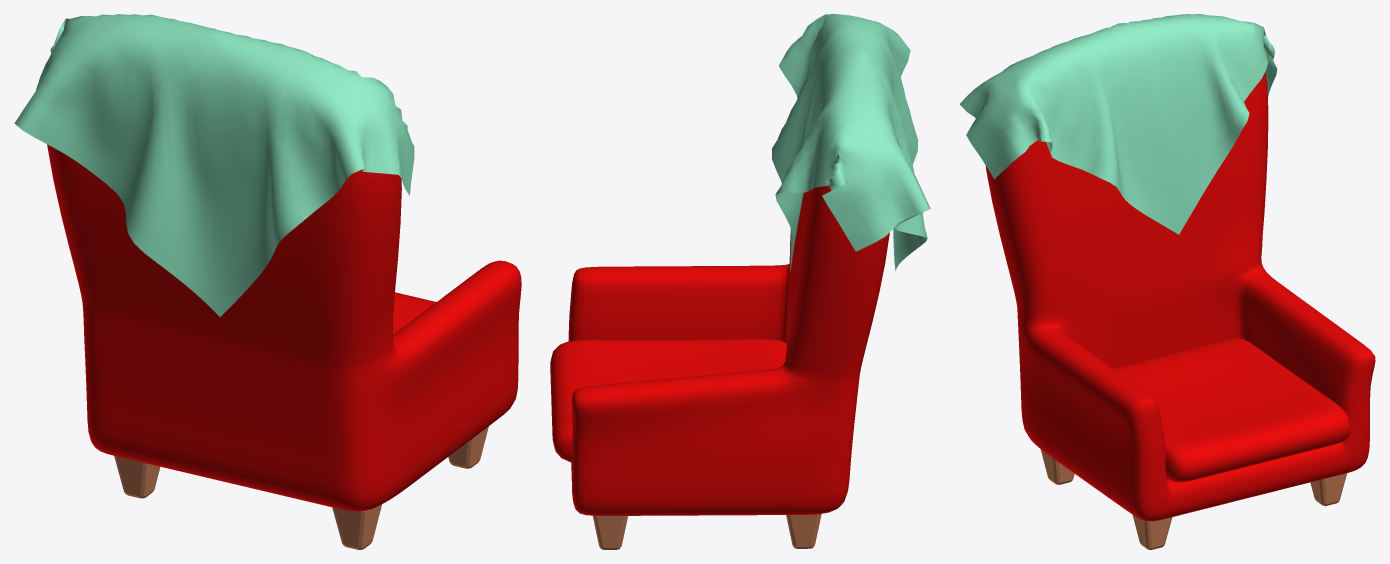
The model's file is santaworkshop_stoel.fbx.
The picture shows the model from 3 angles, left to right: view 1: azimuth 30°, elevation 25°; view 2: azimuth 150°, elevation 25°; view 3: azimuth 270°, elevation 25°; orthographic projection. The views are drawn at different scales.
Visible parts, largest first — view 1: Cube.030; view 2: Cube.030; view 3: Cube.030.
Part boxes in pixels (box(x1,y1,x2,y2)): Cube.030: box(14, 14, 521, 549); Cube.030: box(550, 14, 930, 549); Cube.030: box(959, 14, 1375, 549).
Size of the model in its own units: 347 by 372 by 338.
